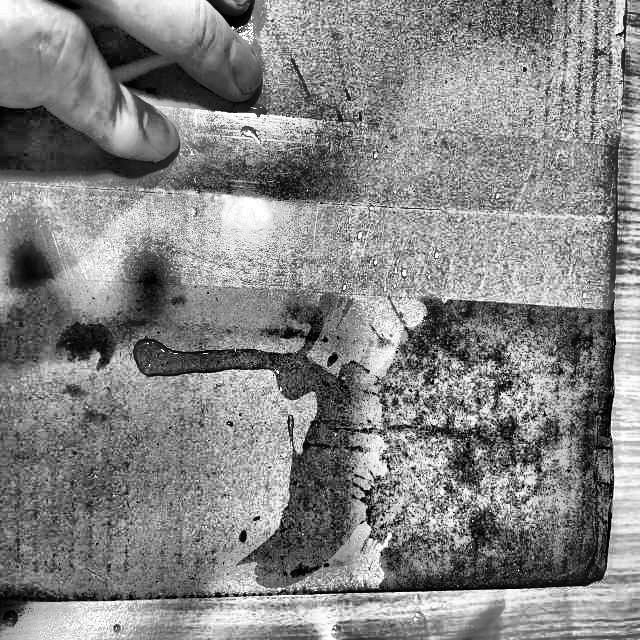box: (0, 0, 635, 606)
wet: (135, 290, 613, 584)
